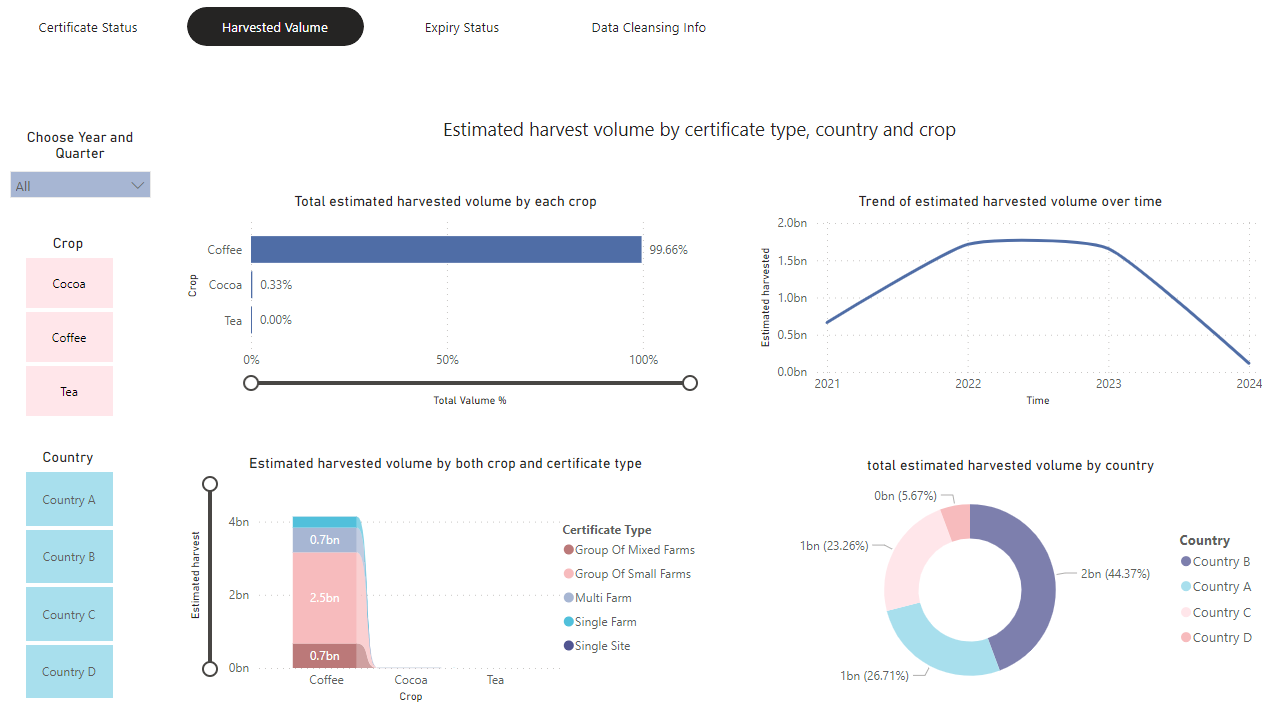

The dashboard page shown, as its layout file describes it:
{"tool":"powerbi","page":{"name":"Harvested Valume","canvas":[1280,720],"ordinal":1},"visuals":[{"type":"clusteredBarChart","title":"Total estimated harvested volume by each crop","fields":{"Y":["NewMeasures.TotalVolumePerCrop"],"Category":["MergeValidateTables.Crop"]},"box":[186,194,528,218],"z":0},{"type":"lineChart","title":"Trend of estimated harvested volume over time","fields":{"Category":["MergeValidateTables.Certificate start date.Variation.Date Hierarchy.Year","MergeValidateTables.Certificate start date.Variation.Date Hierarchy.Quarter","MergeValidateTables.Certificate start date.Variation.Date Hierarchy.Month","MergeValidateTables.Certificate start date.Variation.Date Hierarchy.Day"],"Y":["Sum(MergeValidateTables.Estimated harvested volume)"]},"box":[759,194,512,218],"z":1000},{"type":"donutChart","title":" total estimated harvested volume by country","fields":{"Category":["MergeValidateTables.Country"],"Y":["Sum(MergeValidateTables.Estimated harvested volume)"]},"box":[759,458,512,250],"z":2000},{"type":"columnChart","title":"Estimated harvested volume by both crop and certificate type","fields":{"Y":["Sum(MergeValidateTables.Estimated harvested volume)"],"Category":["MergeValidateTables.Crop"],"Series":["MergeValidateTables.Certificate Type"]},"box":[186,456,528,252],"z":3000},{"type":"slicer","title":"Choose Year and Quarter","fields":{"Values":["MergeValidateTables.Certificate start date.Variation.Date Hierarchy.Year","MergeValidateTables.Certificate start date.Variation.Date Hierarchy.Quarter"]},"box":[4,130,161,82],"z":4000},{"type":"slicer","title":"Country","fields":{"Values":["MergeValidateTables.Country"]},"box":[4,450,137,256],"z":5000},{"type":"slicer","title":"Crop","fields":{"Values":["MergeValidateTables.Crop"]},"box":[4,236,137,188],"z":6000},{"type":"pageNavigator","box":[4,8,740,39],"z":7000},{"type":"textbox","box":[260,112,888,36],"z":8000}]}

Visuals, with their boxes on the page's 1280x720 design canvas (x1, y1, x2, y2). These are canvas units, not pixel positions in the 1270x714 screenshot, which may show the page scaled, cropped or inside an application window:
"Total estimated harvested volume by each crop" clusteredBarChart: [186, 194, 714, 412]
"Trend of estimated harvested volume over time" lineChart: [759, 194, 1271, 412]
" total estimated harvested volume by country" donutChart: [759, 458, 1271, 708]
"Estimated harvested volume by both crop and certificate type" columnChart: [186, 456, 714, 708]
"Choose Year and Quarter" slicer: [4, 130, 165, 212]
"Country" slicer: [4, 450, 141, 706]
"Crop" slicer: [4, 236, 141, 424]
pageNavigator: [4, 8, 744, 47]
textbox: [260, 112, 1148, 148]
